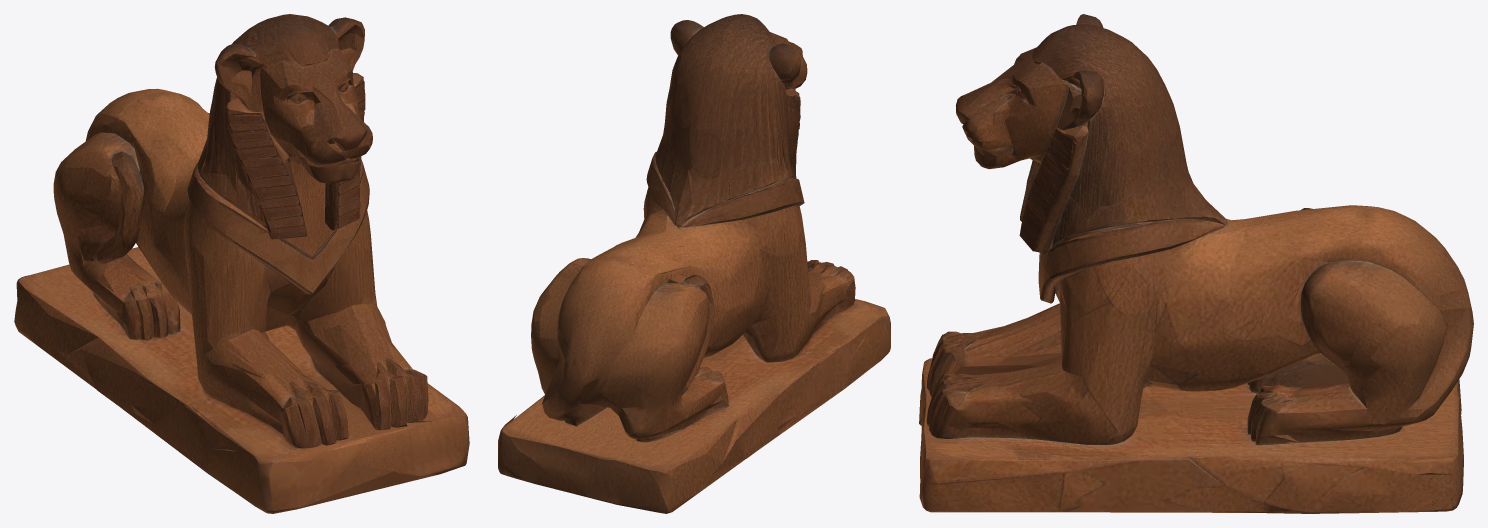
The model's file is lion.glb.
3 renders of one model, left to right at view 1: azimuth 30°, elevation 25°; view 2: azimuth 150°, elevation 25°; view 3: azimuth 270°, elevation 25°, orthographic. The views are drawn at different scales.
Visible parts, largest first — view 1: mesh_node; view 2: mesh_node; view 3: mesh_node.
Boxes of the visible parts, x1,y1,x2,y2 form: mesh_node: (14, 14, 469, 513); mesh_node: (498, 14, 890, 513); mesh_node: (919, 14, 1473, 513).
Size of the model in its own units: 0.8671 by 1.65 by 1.9.
1 material, 1 textured.
